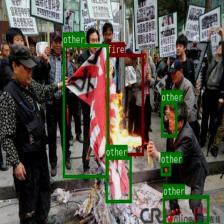fire: (106, 54, 144, 156)
